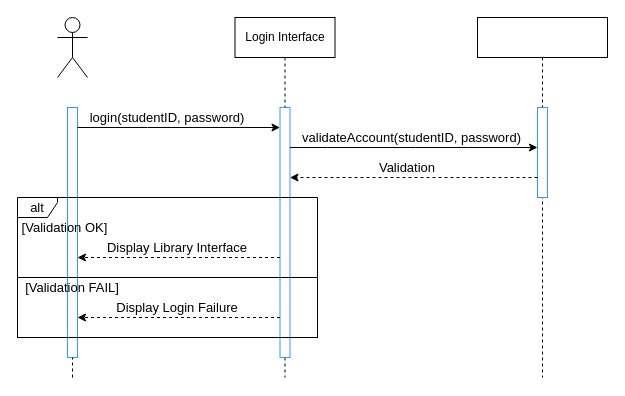
Some shapes in this 625 by 396 pixel diagram are drawn without their labels. The shapes that lost their labels are listed below. From the top down, each one's centre as x and y in pixels, then its label:
At [72,47]: "Student".
At [542,197]: "Library API".
